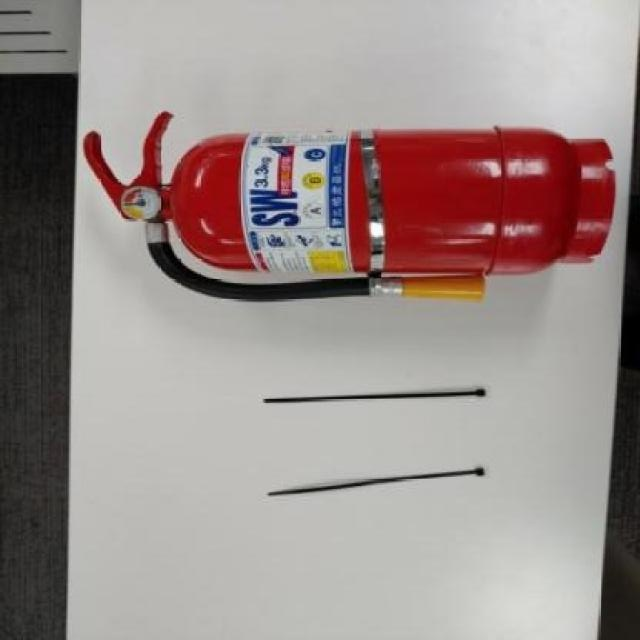fire extinguisher: (82, 110, 618, 302)
